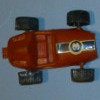rojo: (3, 12, 96, 82)
